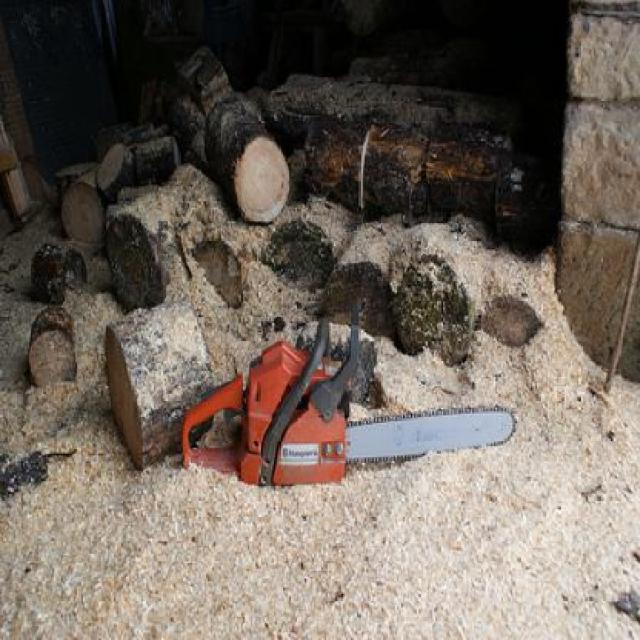Chainsaw: (182, 300, 516, 485)
